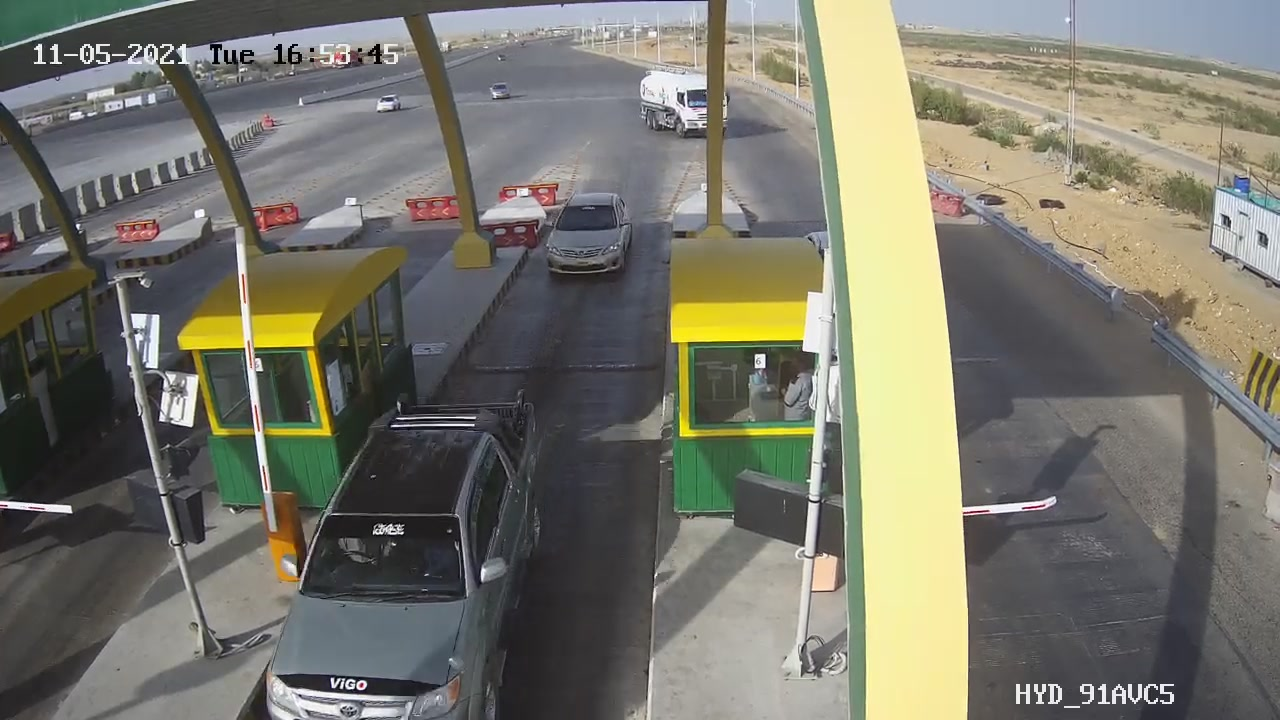F1: (529, 180, 650, 290)
